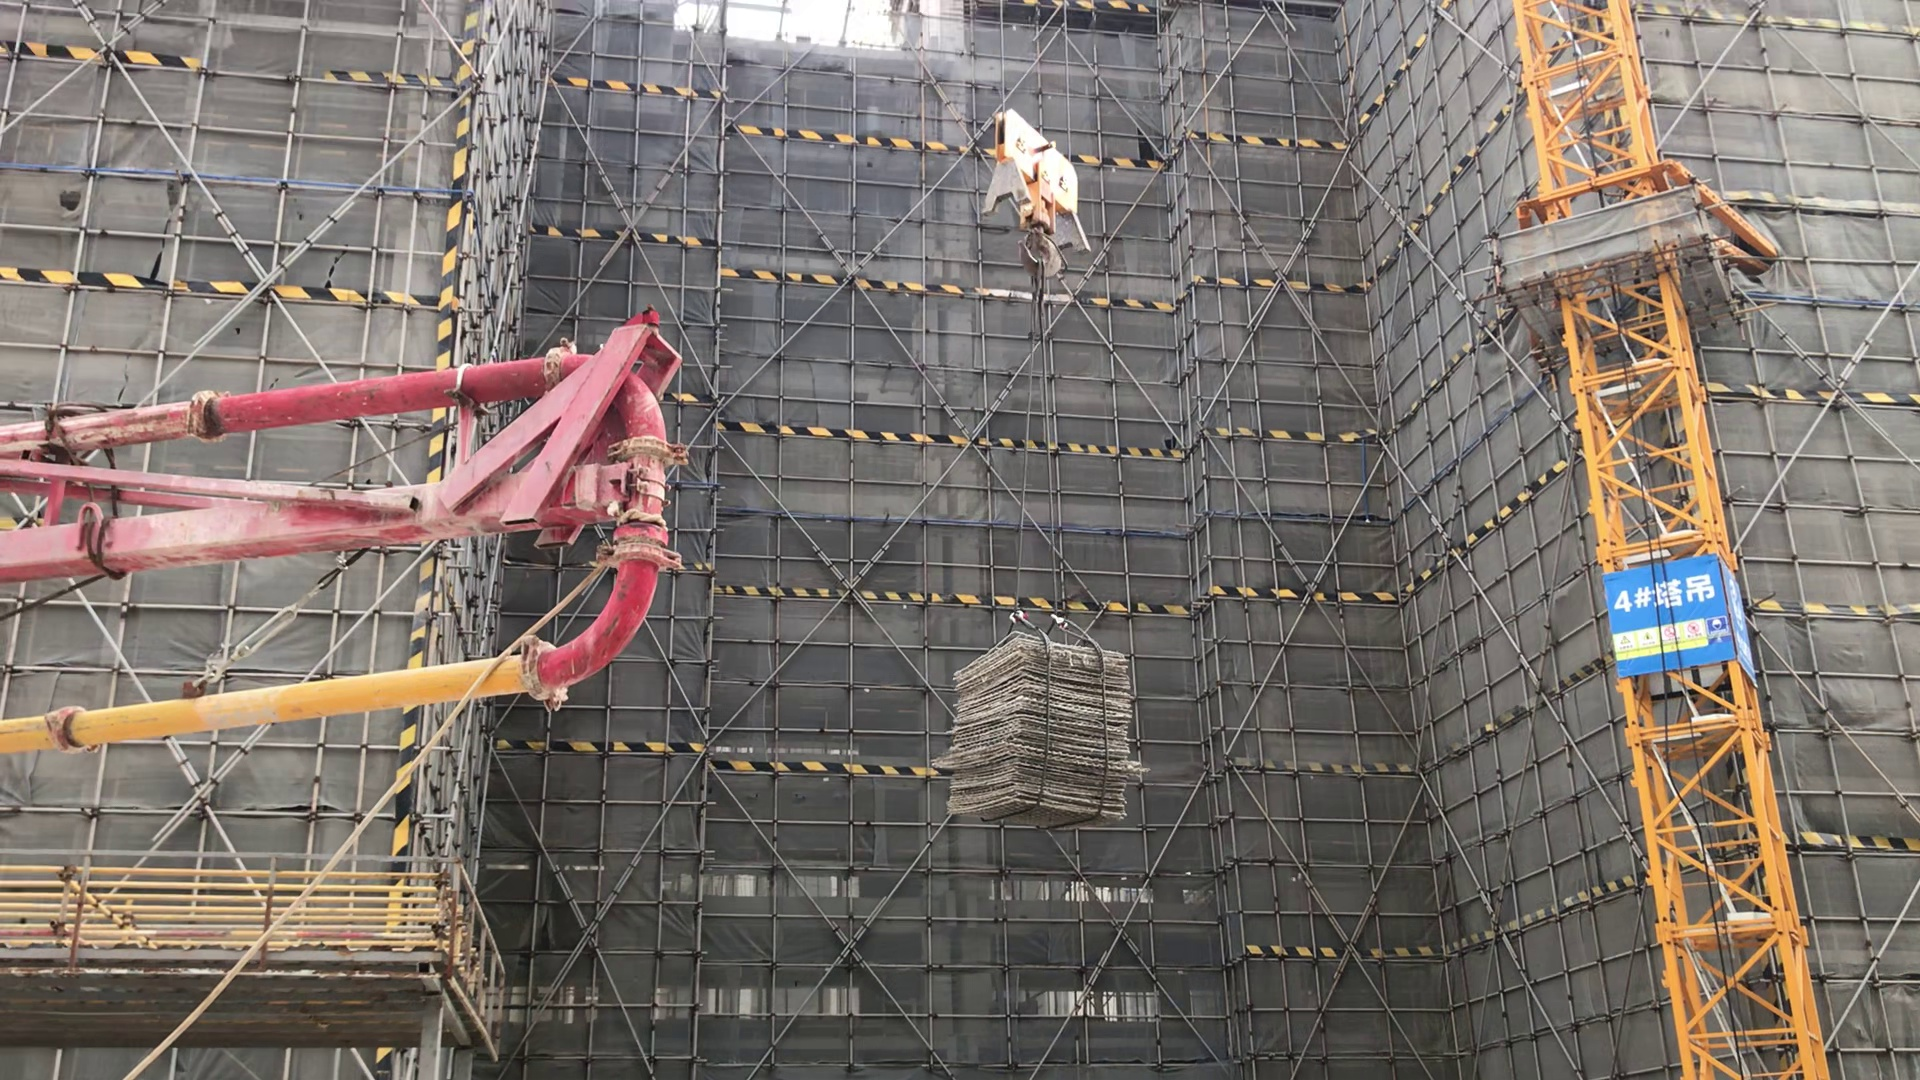hook: (986, 109, 1092, 285)
slogan: (1607, 574, 1727, 657)
